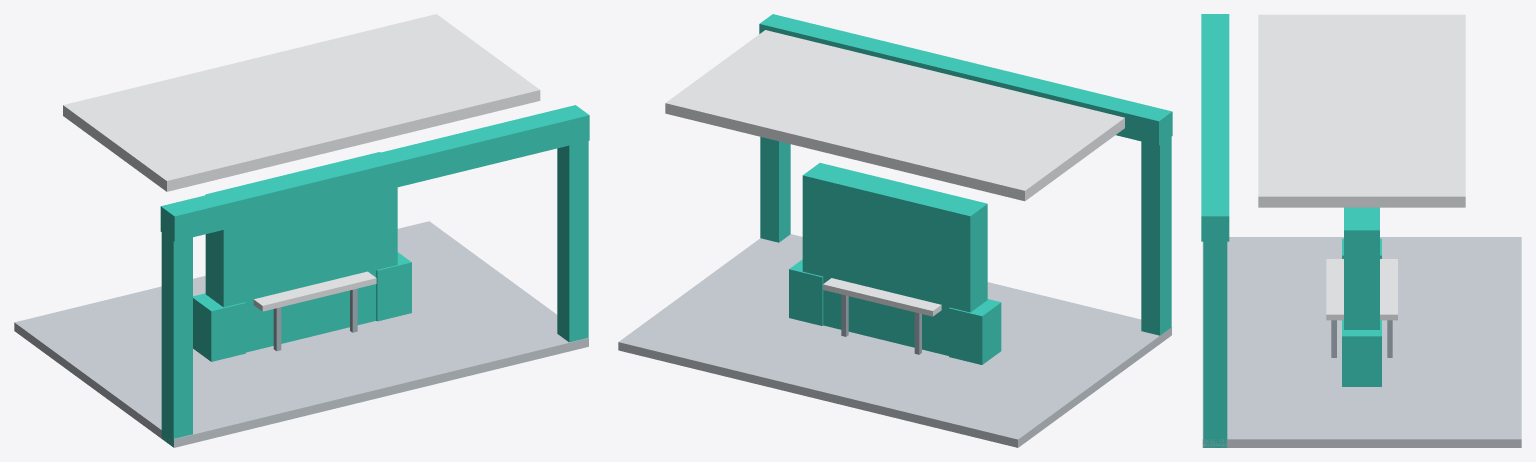
The picture shows the model from 3 angles, left to right: view 1: azimuth 30°, elevation 25°; view 2: azimuth 150°, elevation 25°; view 3: azimuth 270°, elevation 25°; orthographic projection. The views are drawn at different scales.
Visible parts, largest first — view 1: Exhibition Booth Concept; view 2: Exhibition Booth Concept; view 3: Exhibition Booth Concept.
Boxes of the visible parts, box(x1,y1,x2,y2) form: Exhibition Booth Concept: box(14, 14, 589, 447); Exhibition Booth Concept: box(618, 14, 1172, 447); Exhibition Booth Concept: box(1201, 14, 1521, 447).
Size of the model in its own units: 6 by 3.34 by 4.02.
